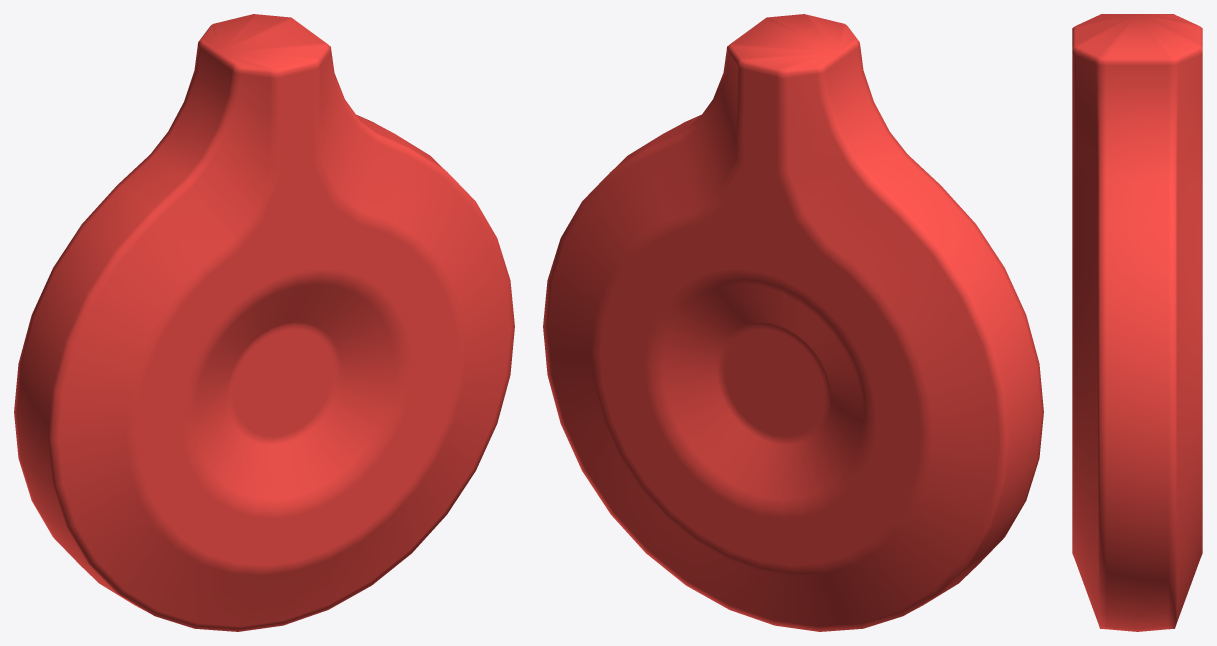
The model's file is part_magazine_01.fbx.
3 views of the same model, side by side, from view 1: azimuth 30°, elevation 25°; view 2: azimuth 150°, elevation 25°; view 3: azimuth 270°, elevation 25° (orthographic).
Visible parts, largest first — view 1: part_magazine_01; view 2: part_magazine_01; view 3: part_magazine_01.
Boxes of the visible parts, bbox=[...] form: part_magazine_01: bbox=[14, 14, 514, 631]; part_magazine_01: bbox=[543, 14, 1043, 631]; part_magazine_01: bbox=[1072, 14, 1202, 631].
Bounding box in the file's own units: 18.83 × 21.99 × 4.56.
